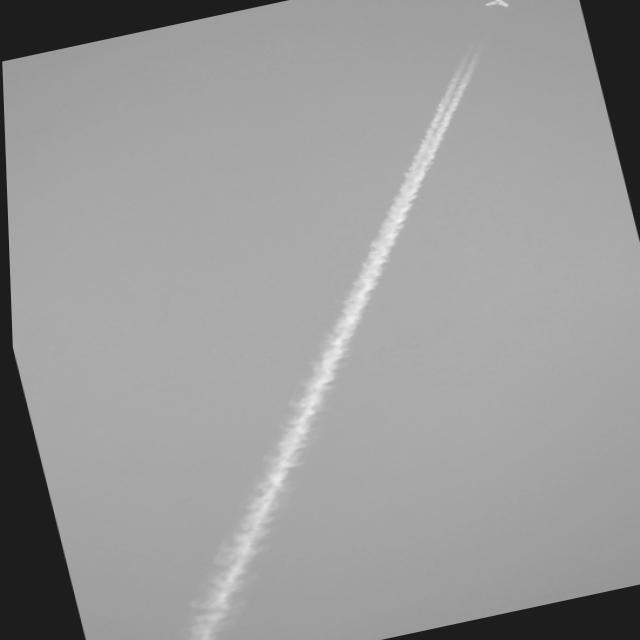aeroplane: (460, 0, 543, 14)
